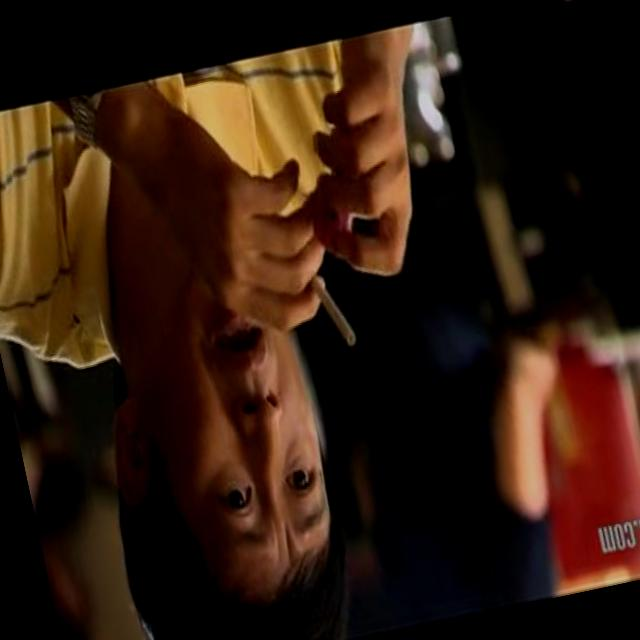smoke: (292, 236, 376, 386)
